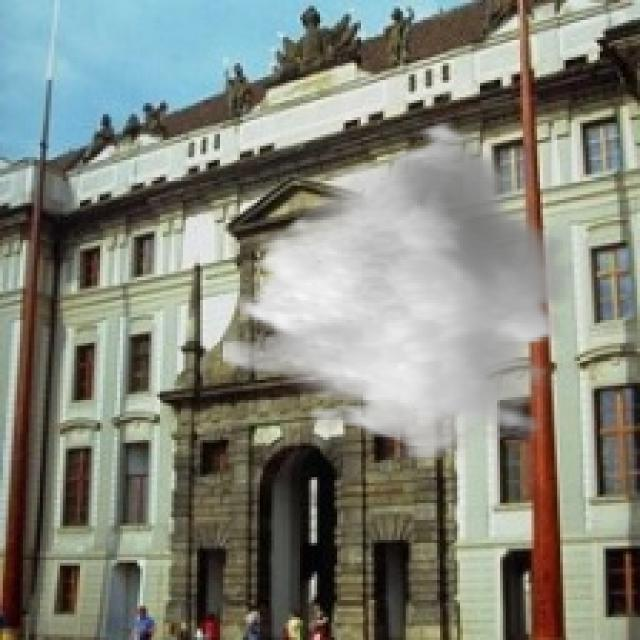Smoke: (220, 114, 574, 460)
